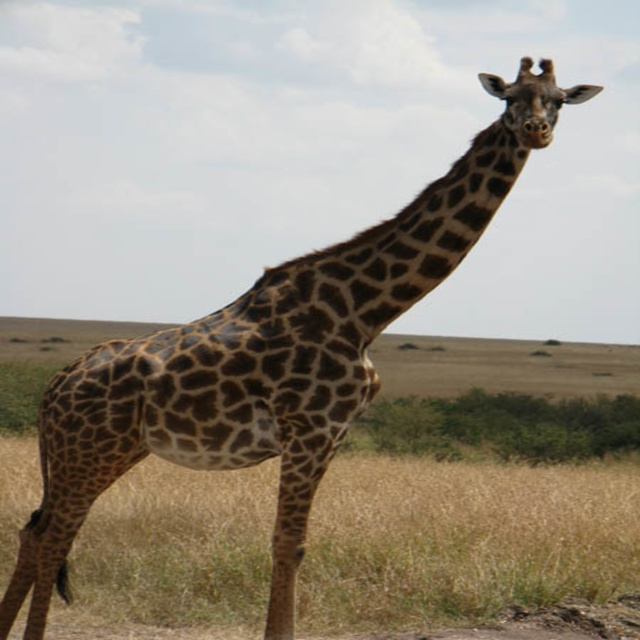Giraffe: (0, 54, 603, 639)
